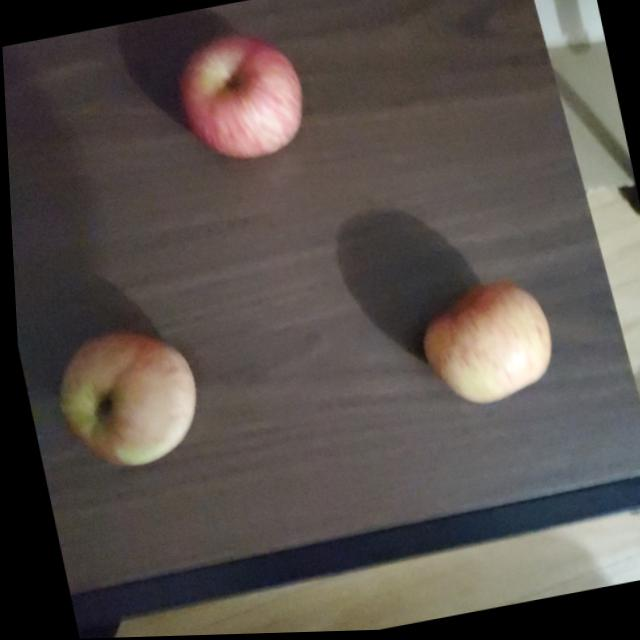apple: (45, 318, 205, 478), (407, 271, 559, 415), (173, 24, 314, 168)
